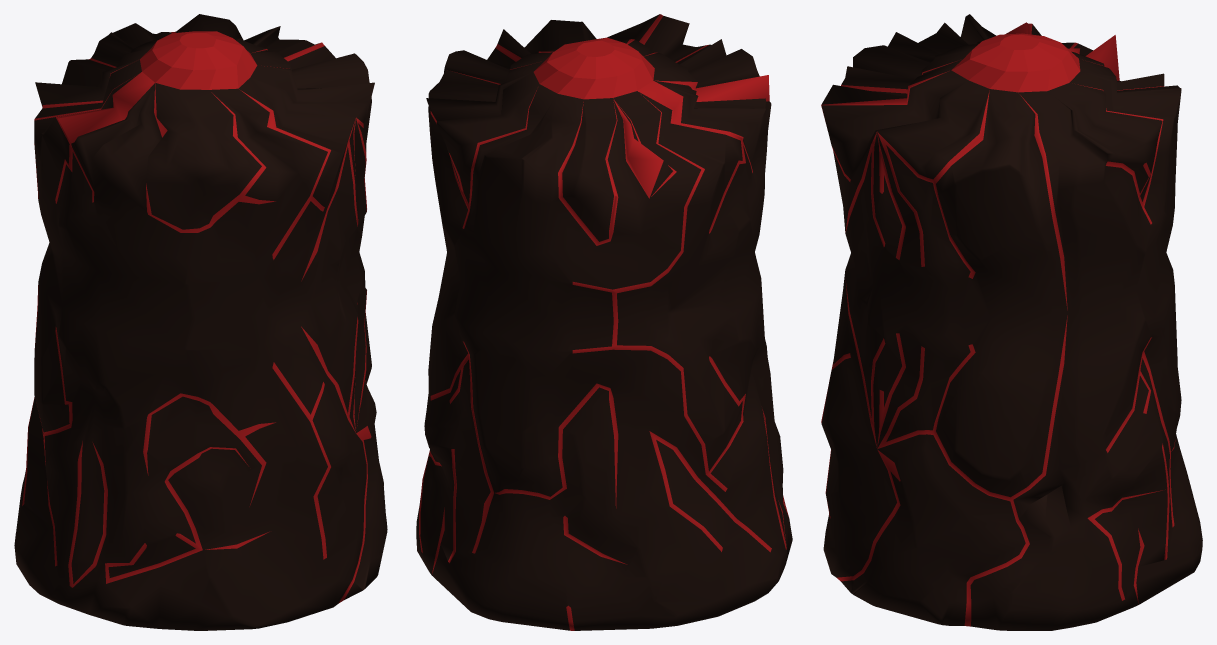
File: Hell_6_Cup.fbx
3 renders of one model, left to right at view 1: azimuth 30°, elevation 25°; view 2: azimuth 150°, elevation 25°; view 3: azimuth 270°, elevation 25°, orthographic.
Visible parts, largest first — view 1: Rock_6_Cup; view 2: Rock_6_Cup; view 3: Rock_6_Cup.
Boxes of the visible parts, x1=… form: Rock_6_Cup: x1=14, y1=14, x2=387, y2=630; Rock_6_Cup: x1=416, y1=14, x2=792, y2=630; Rock_6_Cup: x1=821, y1=14, x2=1202, y2=630.
Bounding box in the file's own units: 1505 × 2239 × 1515.
